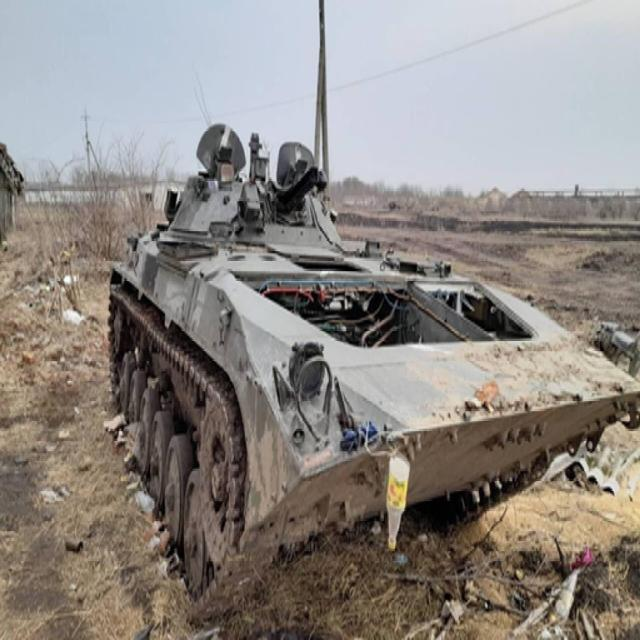APC-IFV: (94, 113, 636, 607)
